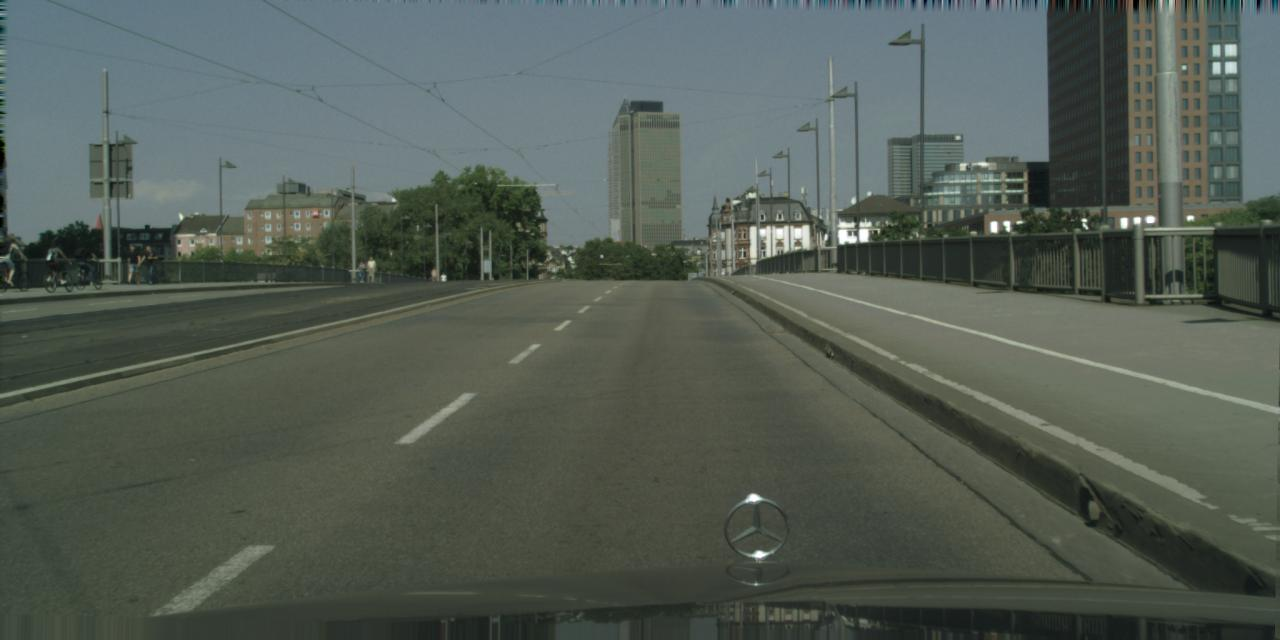ped: (0, 236, 17, 283), (47, 242, 63, 283), (141, 244, 157, 284), (78, 243, 94, 283), (125, 245, 141, 284), (365, 256, 376, 282), (429, 266, 437, 286), (357, 261, 365, 281), (440, 271, 446, 287)
